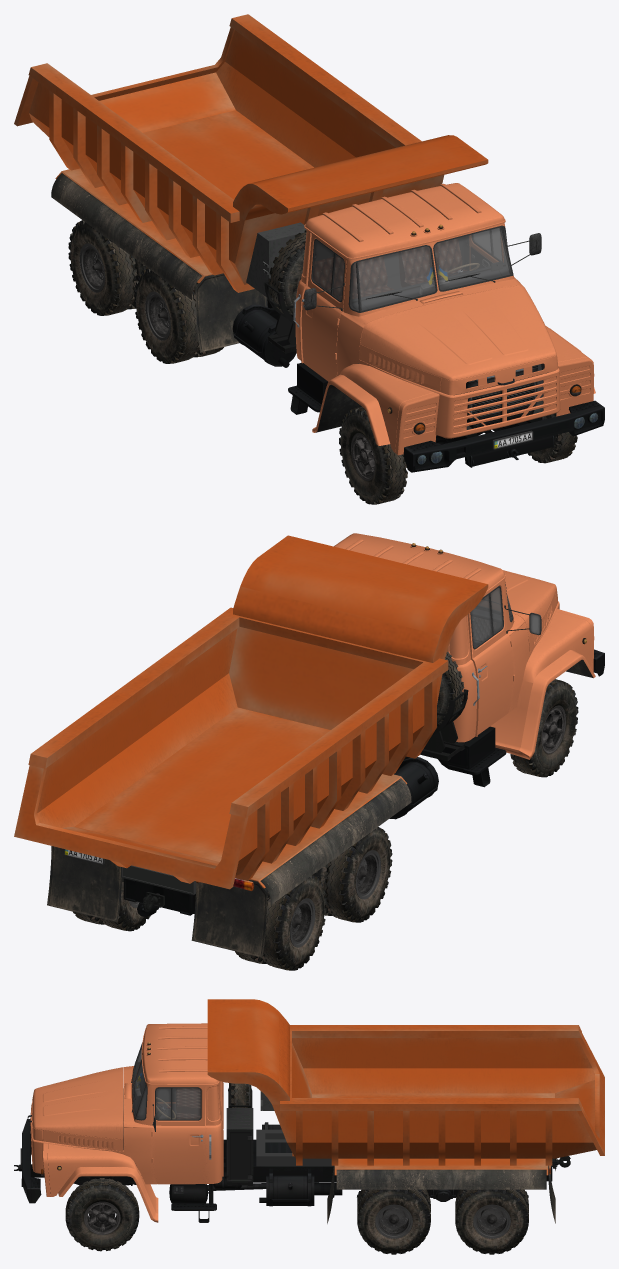
The model's file is truck.glb.
The picture shows the model from 3 angles, top to bottom: view 1: azimuth 30°, elevation 25°; view 2: azimuth 150°, elevation 25°; view 3: azimuth 270°, elevation 25°; orthographic projection. The views are drawn at different scales.
Visible parts, largest first — view 1: body_75, cab_9, hood_19, base_frame_0, windows_54, interior_20, right_rear_tire_15, right_door_17, right_middle_tire_6, right_front_tire_5, extra_tire_57, engine_10 (+8 smaller); view 2: body_75, cab_9, base_frame_0, right_door_17, right_middle_tire_6, right_rear_tire_15, right_front_tire_5, hood_19, extras_binding_58, extra_tire_57, left_rear_tire_16, right_rear_rim_14 (+4 smaller); view 3: body_75, cab_9, base_frame_0, hood_19, left_door_11, left_front_tire_7, left_middle_tire_8, left_rear_tire_16, toolbox_59, left_middle_rim_3, left_rear_rim_13, left_front_rim_1 (+5 smaller).
Boxes of the visible parts, left/top/right/bottom form: body_75: left=14, top=14, right=488, bottom=352; cab_9: left=295, top=183, right=595, bottom=455; hood_19: left=359, top=285, right=558, bottom=395; base_frame_0: left=232, top=298, right=604, bottom=472; windows_54: left=348, top=225, right=513, bottom=312; interior_20: left=313, top=236, right=508, bottom=299; right_rear_tire_15: left=68, top=220, right=147, bottom=315; right_door_17: left=301, top=234, right=346, bottom=381; right_middle_tire_6: left=134, top=268, right=223, bottom=363; right_front_tire_5: left=339, top=406, right=407, bottom=504; extra_tire_57: left=268, top=230, right=306, bottom=319; engine_10: left=454, top=363, right=548, bottom=428; body_75: left=14, top=535, right=488, bottom=957; cab_9: left=334, top=533, right=595, bottom=759; base_frame_0: left=121, top=649, right=604, bottom=916; right_door_17: left=470, top=581, right=529, bottom=734; right_middle_tire_6: left=313, top=827, right=392, bottom=922; right_rear_tire_15: left=235, top=875, right=326, bottom=970; right_front_tire_5: left=510, top=679, right=578, bottom=777; hood_19: left=503, top=570, right=557, bottom=652; extras_binding_58: left=420, top=689, right=468, bottom=761; extra_tire_57: left=437, top=652, right=464, bottom=727; left_rear_tire_16: left=73, top=877, right=150, bottom=931; right_rear_rim_14: left=290, top=898, right=315, bottom=947; body_75: left=207, top=999, right=604, bottom=1223; cab_9: left=30, top=1023, right=223, bottom=1222; base_frame_0: left=14, top=1119, right=552, bottom=1222; hood_19: left=27, top=1067, right=123, bottom=1151; left_door_11: left=151, top=1085, right=204, bottom=1184; left_front_tire_7: left=65, top=1178, right=139, bottom=1251; left_middle_tire_8: left=357, top=1189, right=430, bottom=1254; left_rear_tire_16: left=455, top=1189, right=528, bottom=1254; toolbox_59: left=226, top=1108, right=253, bottom=1182; left_middle_rim_3: left=375, top=1204, right=412, bottom=1238; left_rear_rim_13: left=473, top=1204, right=510, bottom=1238; left_front_rim_1: left=84, top=1201, right=120, bottom=1234.
Size of the model in its own units: 3.5 by 3.43 by 10.13.
31 materials, 31 textured.
